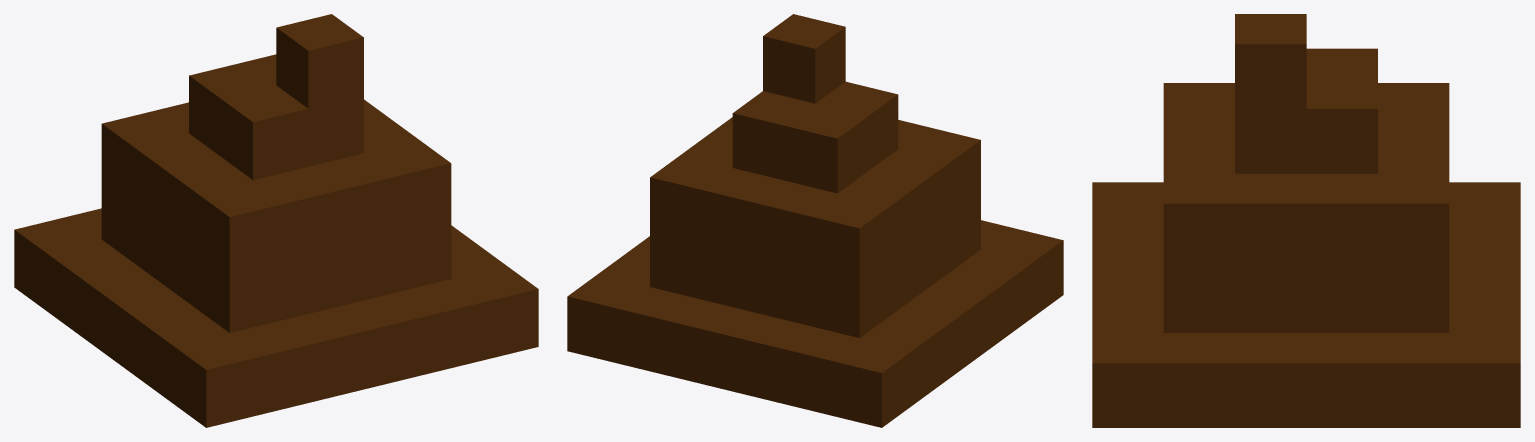
File: Spiralpoop.dae
3 renders of one model, left to right at view 1: azimuth 30°, elevation 25°; view 2: azimuth 150°, elevation 25°; view 3: azimuth 270°, elevation 25°, orthographic. The views are drawn at different scales.
Parts seen in each view (by area): view 1: Spiralpoop; view 2: Spiralpoop; view 3: Spiralpoop.
Part boxes in pixels (bbox=[...]): Spiralpoop: bbox=[14, 14, 538, 427]; Spiralpoop: bbox=[567, 14, 1063, 427]; Spiralpoop: bbox=[1092, 14, 1520, 427].
Size of the model in its own units: 6 by 5 by 6.
1 material, 1 textured.
